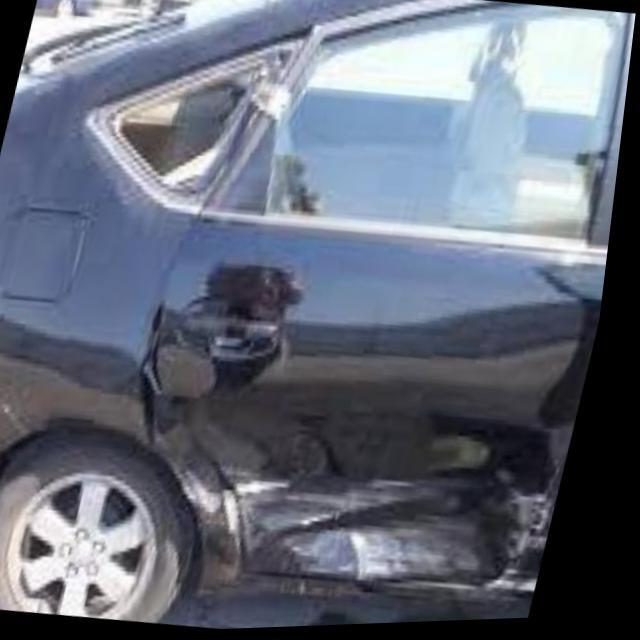crack: (133, 294, 592, 619)
glass shatter: (93, 21, 304, 205)
